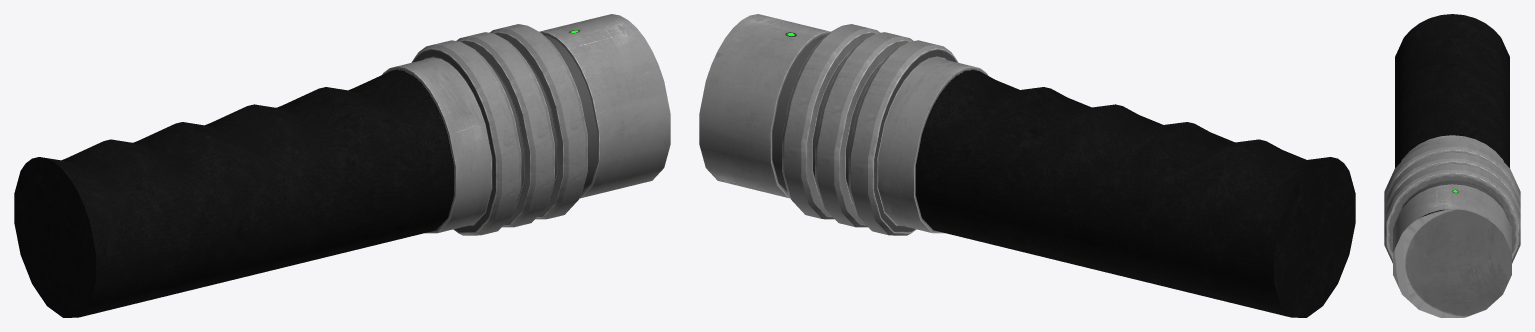
Rendered from grip_11_c_a.glb.
3 renders of one model, left to right at view 1: azimuth 30°, elevation 25°; view 2: azimuth 150°, elevation 25°; view 3: azimuth 270°, elevation 25°, orthographic. The views are drawn at different scales.
Parts seen in each view (by area): view 1: grip_11_c_a_lod0; view 2: grip_11_c_a_lod0; view 3: grip_11_c_a_lod0.
Part boxes in pixels (<box>): grip_11_c_a_lod0: <box>14,14,670,317</box>; grip_11_c_a_lod0: <box>699,14,1355,317</box>; grip_11_c_a_lod0: <box>1384,14,1520,317</box>.
Size of what is drawn, in the model's own units: 0.1055 by 0.0312 by 0.0309.
1 material, 1 textured.
